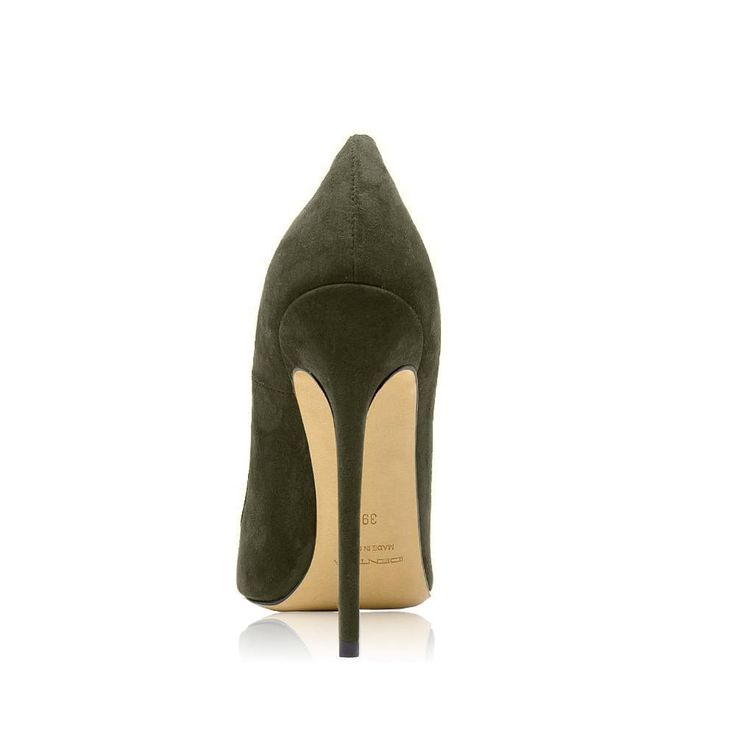gamuza: (236, 135, 435, 659)
